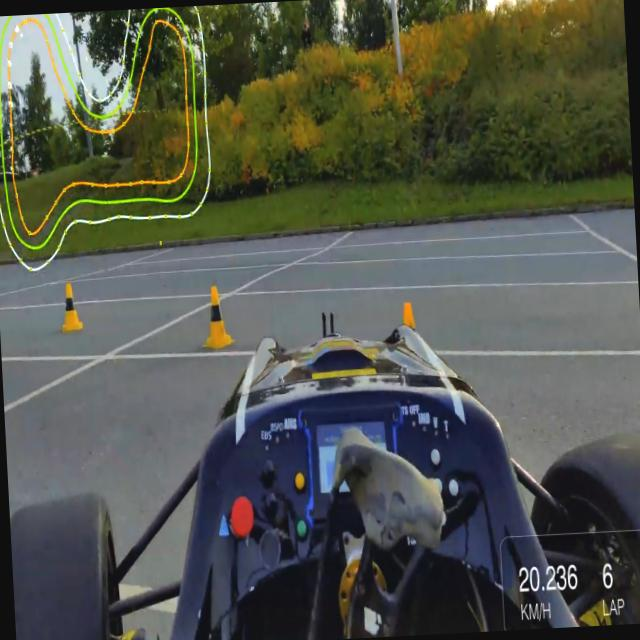yellow_cone: (202, 286, 234, 348), (61, 282, 84, 333)
